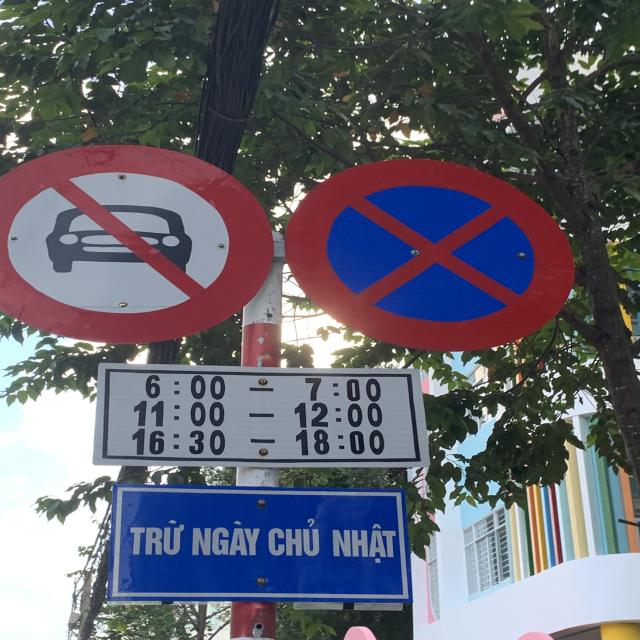Cam_Dung_Va_Dau_Xe: (286, 156, 577, 356)
Cam_O_To: (1, 140, 280, 342)
